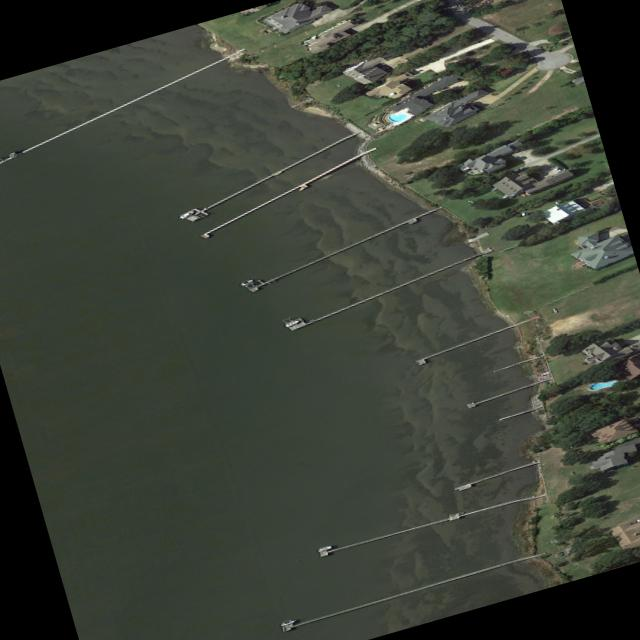ship: (177, 209, 196, 218), (283, 318, 299, 326), (278, 618, 296, 625), (316, 543, 331, 551), (239, 278, 255, 285), (540, 370, 550, 375)
small-vehicle: (508, 166, 522, 172), (418, 43, 430, 48), (552, 166, 561, 171), (635, 517, 640, 521)
